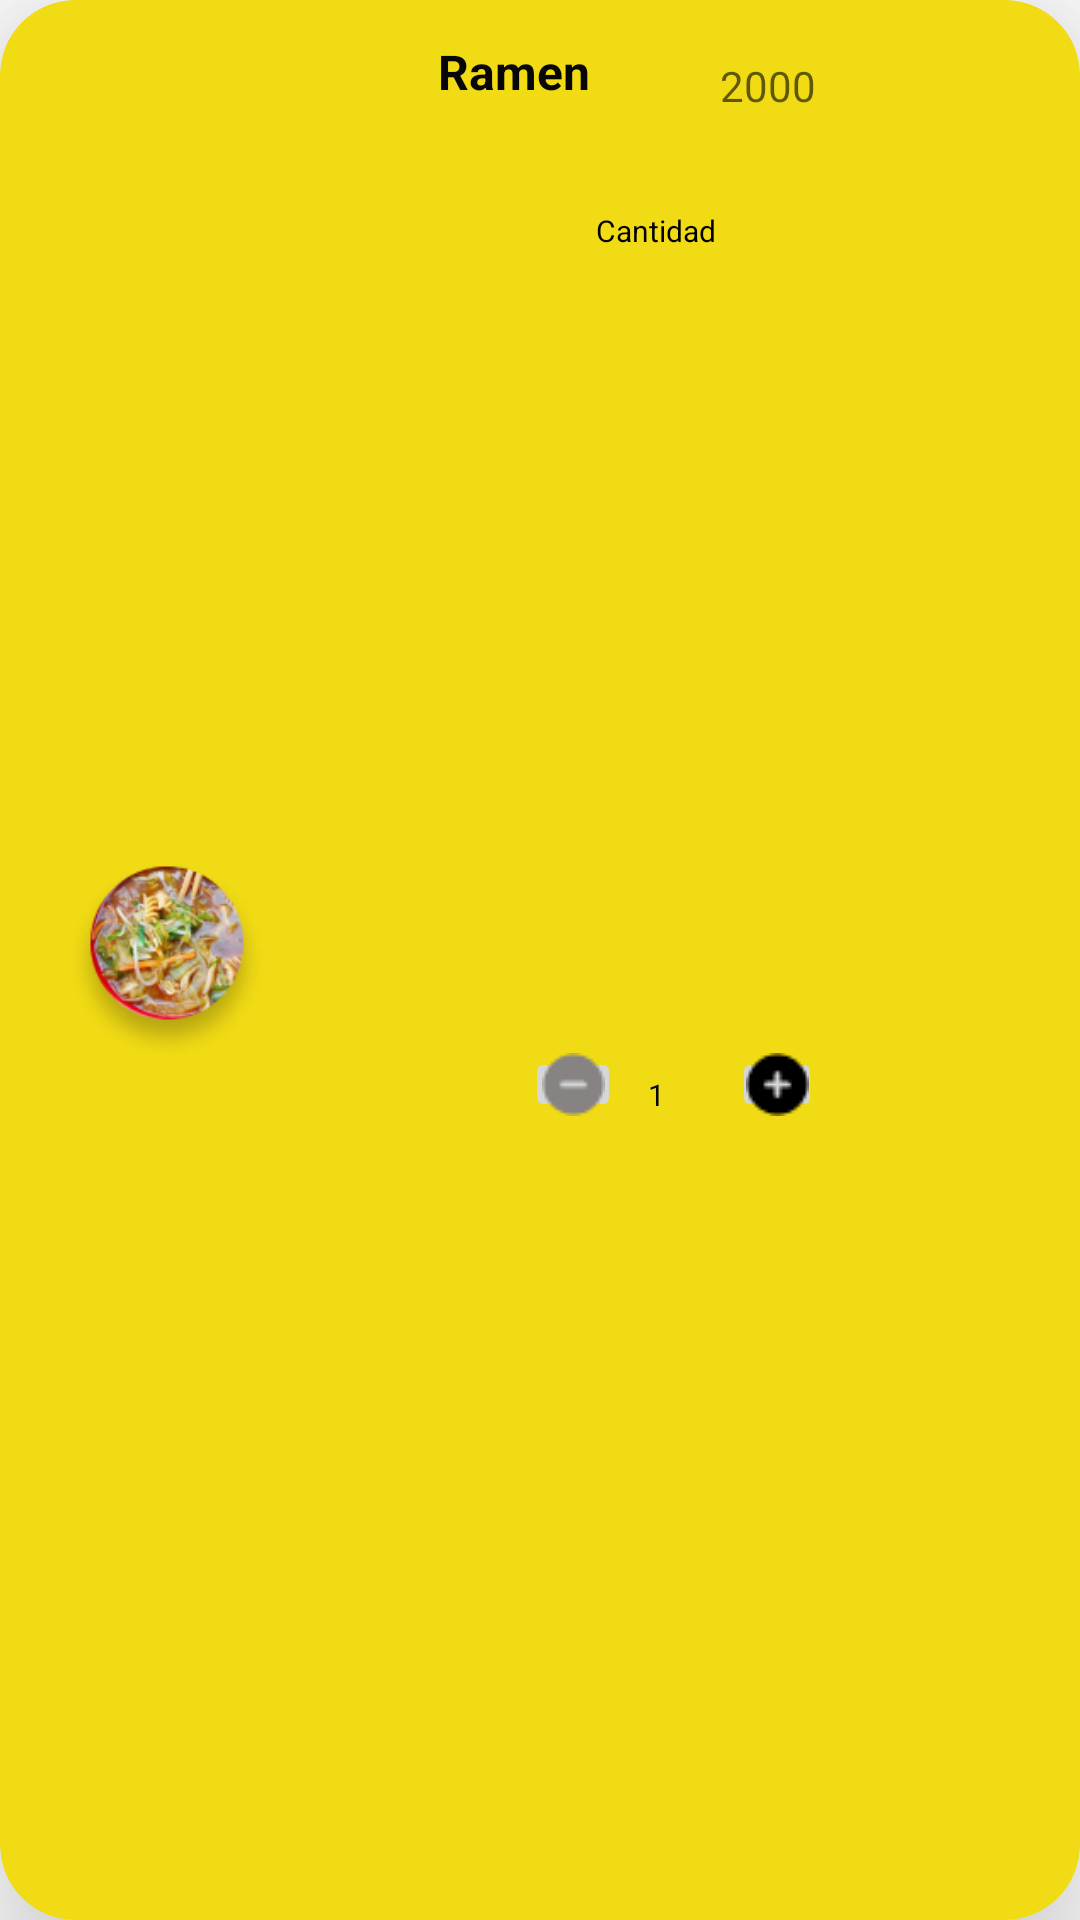

Icon bounding boxes for this 1080x1920 phone screenshot, format {"left": x1, "top": y1, "right": x2, "bottom": y2}:
mas: {"left": 744, "top": 1053, "right": 810, "bottom": 1116}
menos: {"left": 537, "top": 1053, "right": 609, "bottom": 1116}
soup: {"left": 89, "top": 866, "right": 245, "bottom": 1038}
